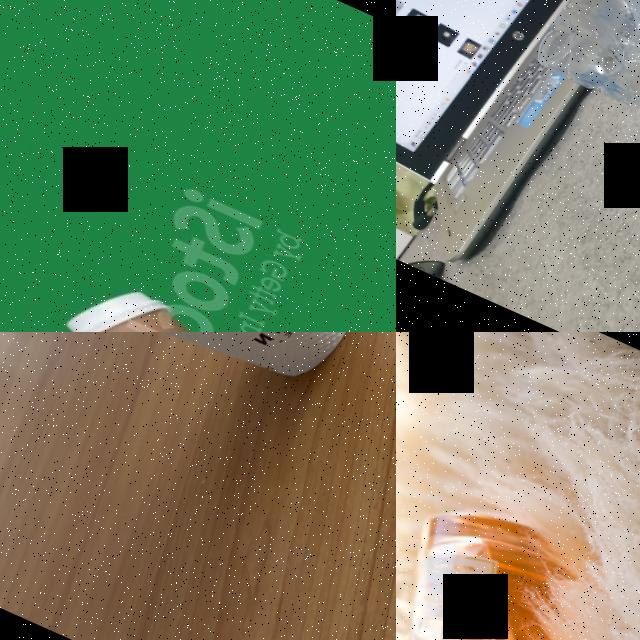cup: (39, 332, 396, 423), (44, 267, 310, 332)
